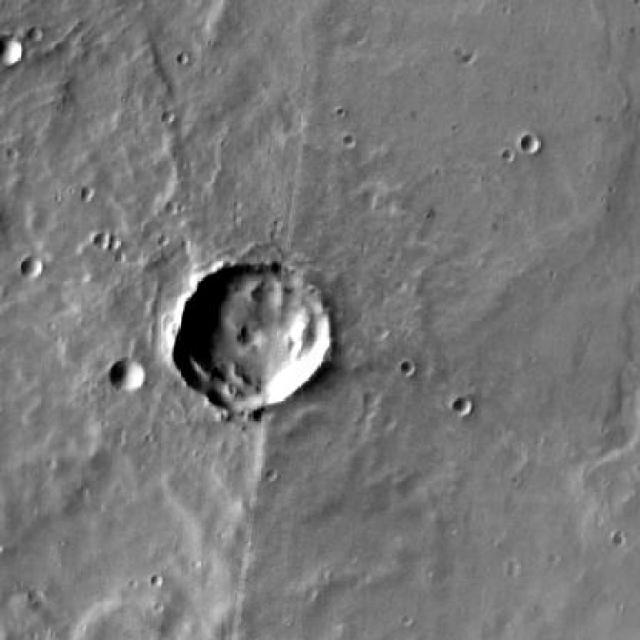crater: (175, 266, 330, 416), (113, 363, 149, 397), (0, 41, 26, 76), (524, 136, 544, 156), (32, 592, 52, 610), (458, 398, 476, 416), (17, 259, 34, 276), (92, 232, 110, 248), (78, 185, 94, 202), (364, 387, 379, 402)
